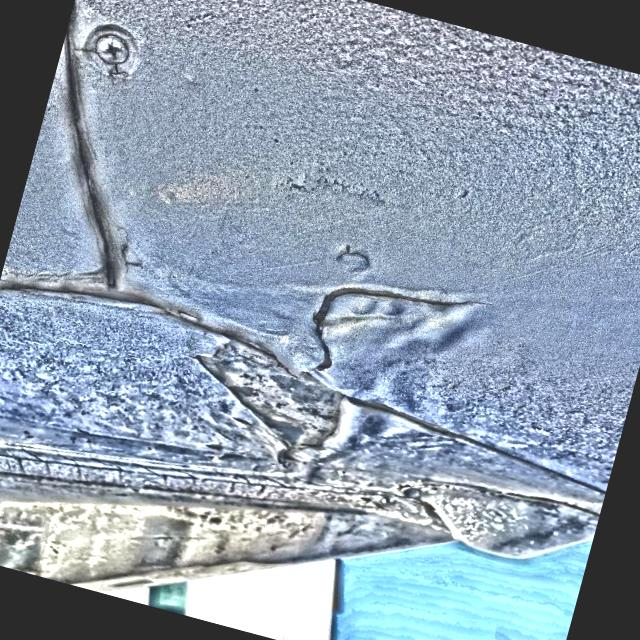crack: (318, 263, 478, 337), (64, 13, 152, 85)
